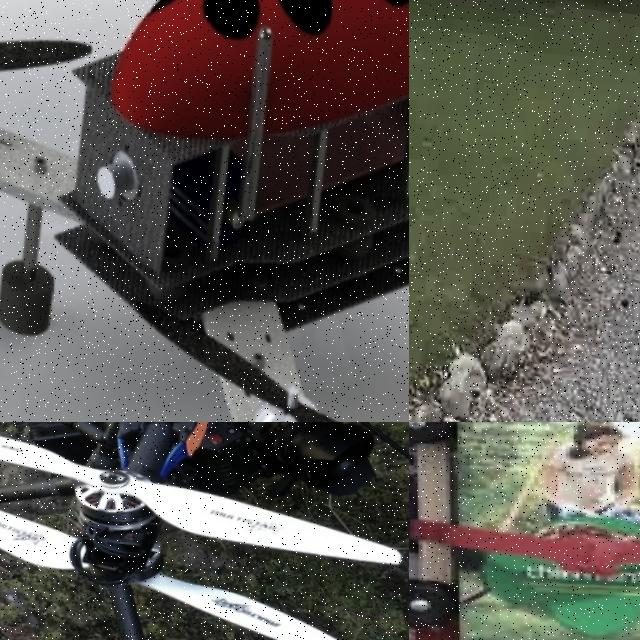drone: (0, 0, 409, 422), (0, 422, 409, 640), (409, 422, 640, 640)
